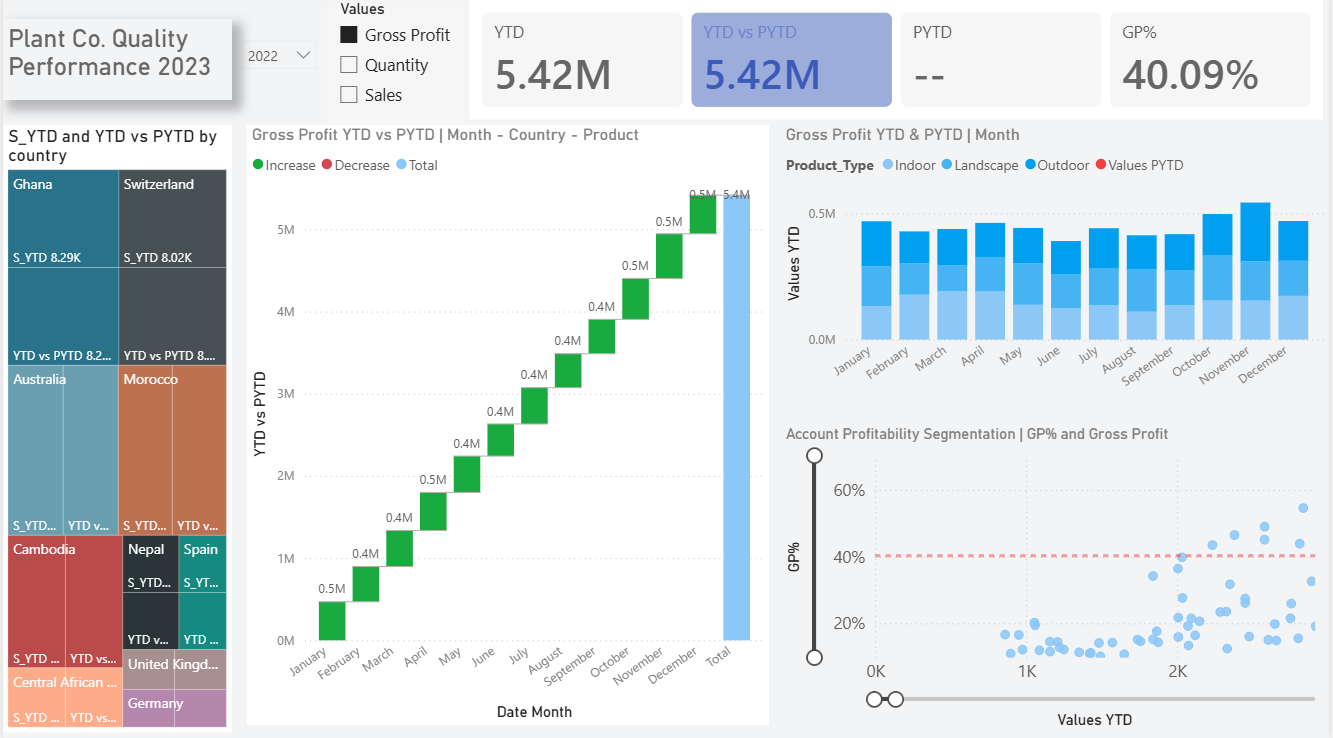

What the dashboard file says about the page in this screenshot:
{"tool":"powerbi","page":{"name":"Page 1","canvas":[1280,720],"ordinal":0},"visuals":[{"type":"cardVisual","fields":{"Data":["_Measures.S_YTD","_Measures.YTD vs PYTD","_Measures.S_PYTD","_Measures.GP%"]},"box":[445.2,0,834.9,125.5],"z":0},{"type":"slicer","fields":{"Values":["Dim_Date.Date.Variation.Date Hierarchy.Year"]},"box":[220.8,33.8,91.7,44.6],"z":1000},{"type":"slicer","fields":{"Values":["Slc_Values.Values"]},"box":[312.5,0,132.7,125.5],"z":2000},{"type":"treemap","fields":{"Values":["_Measures.S_YTD","_Measures.YTD vs PYTD"],"Group":["Dim_Accounts.country"]},"box":[0,125.5,220.8,586.3],"z":3000},{"type":"waterfallChart","fields":{"Y":["_Measures.YTD vs PYTD"],"Category":["Dim_Date.Date.Variation.Date Hierarchy.Month","Dim_Product.Produt_Type","Dim_Product.Product_Name"]},"box":[235.3,125.5,504.3,579.1],"z":4000},{"type":"lineStackedColumnComboChart","fields":{"Y":["_Measures.S_YTD"],"Y2":["_Measures.S_PYTD"],"Category":["Dim_Date.Date.Variation.Date Hierarchy.Month"],"Series":["Dim_Product.Produt_Type"]},"box":[750.4,125.5,529.6,275.1],"z":5000},{"type":"scatterChart","fields":{"Y":["_Measures.GP%"],"X":["_Measures.S_YTD"],"Category":["Dim_Accounts.Account"]},"box":[750.4,415,529.6,296.8],"z":6000},{"type":"textbox","box":[0,22.9,220.8,78.4],"z":7000}]}

Visuals, with their boxes in screenshot pixels (x1, y1, x2, y2), scaled from the page's 1280x720 canvas onto the 1333x738 screenshot:
cardVisual - _Measures.S_YTD x _Measures.YTD vs PYTD: [left=464, top=0, right=1332, bottom=129]
slicer - Dim_Date.Date.Variation.Date Hierarchy.Year: [left=230, top=35, right=325, bottom=80]
slicer - Slc_Values.Values: [left=325, top=0, right=464, bottom=129]
treemap - _Measures.S_YTD x _Measures.YTD vs PYTD: [left=0, top=129, right=230, bottom=730]
waterfallChart - _Measures.YTD vs PYTD x Dim_Date.Date.Variation.Date Hierarchy.Month: [left=245, top=129, right=770, bottom=722]
lineStackedColumnComboChart - _Measures.S_YTD x _Measures.S_PYTD: [left=781, top=129, right=1332, bottom=411]
scatterChart - _Measures.GP% x _Measures.S_YTD: [left=781, top=425, right=1332, bottom=730]
textbox: [left=0, top=23, right=230, bottom=104]
